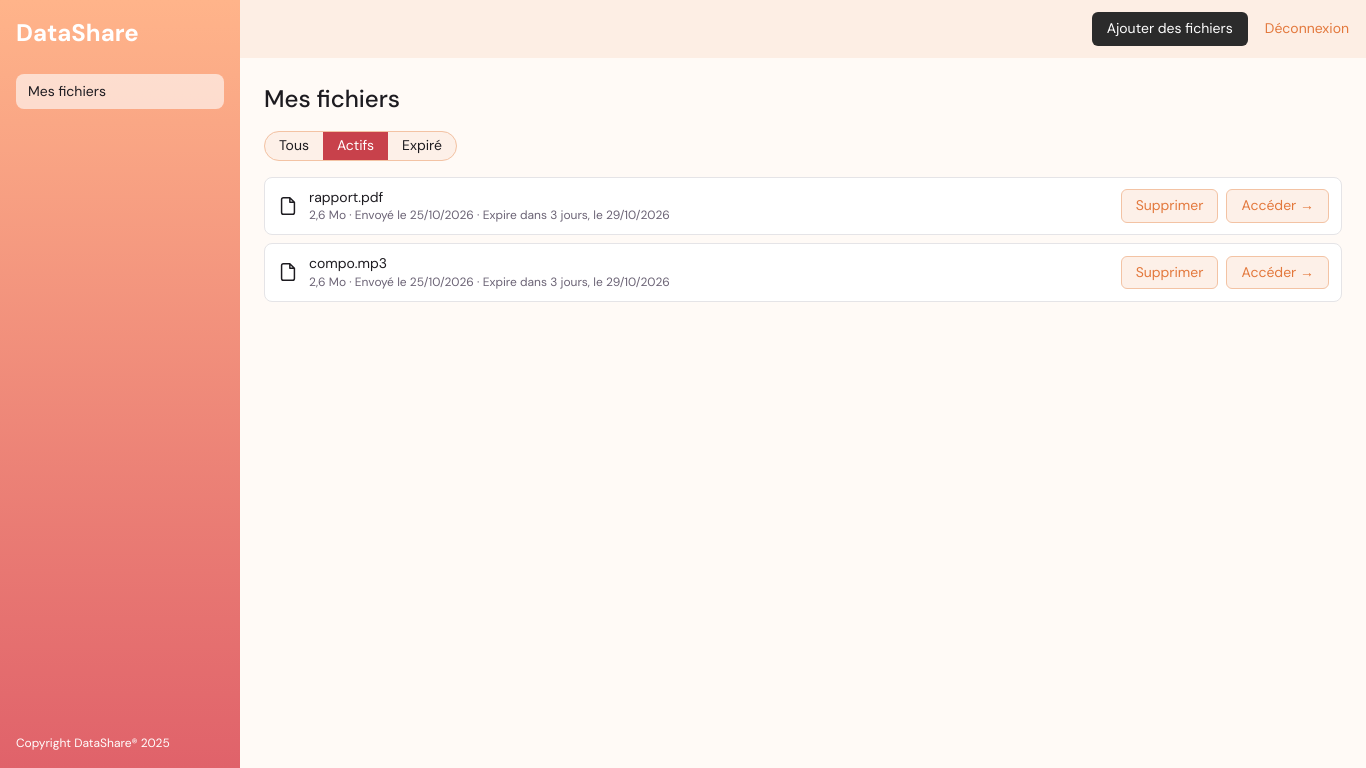
it: MyFilesPage — history (US05) and deletion (US06) › deletes a file only after confirmation, then removes it from the list
Click the button with aria-label "Supprimer rapport.pdf". click: coordinates (1170, 206)
box: [1121, 189, 1218, 223]
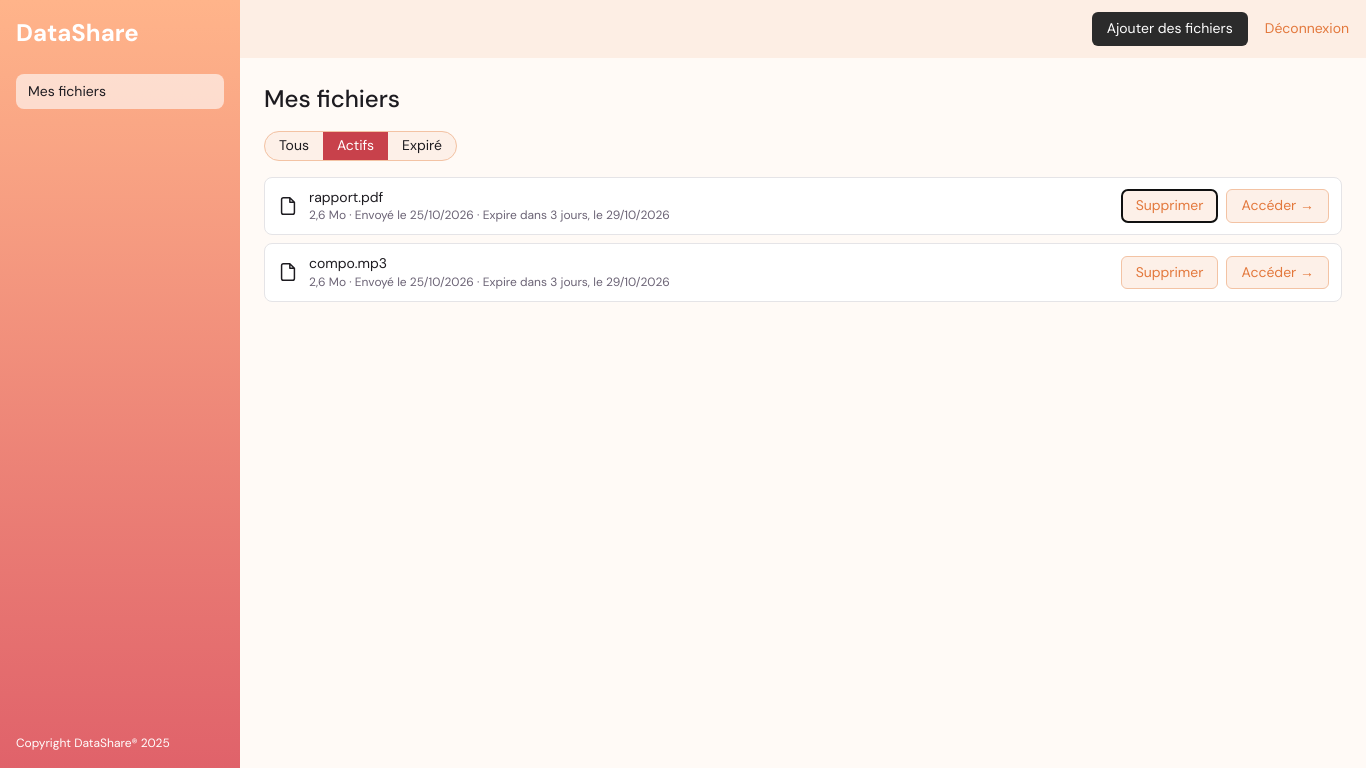
Click the button with aria-label "Supprimer rapport.pdf". click: coordinates (1170, 206)
box: [1121, 189, 1218, 223]
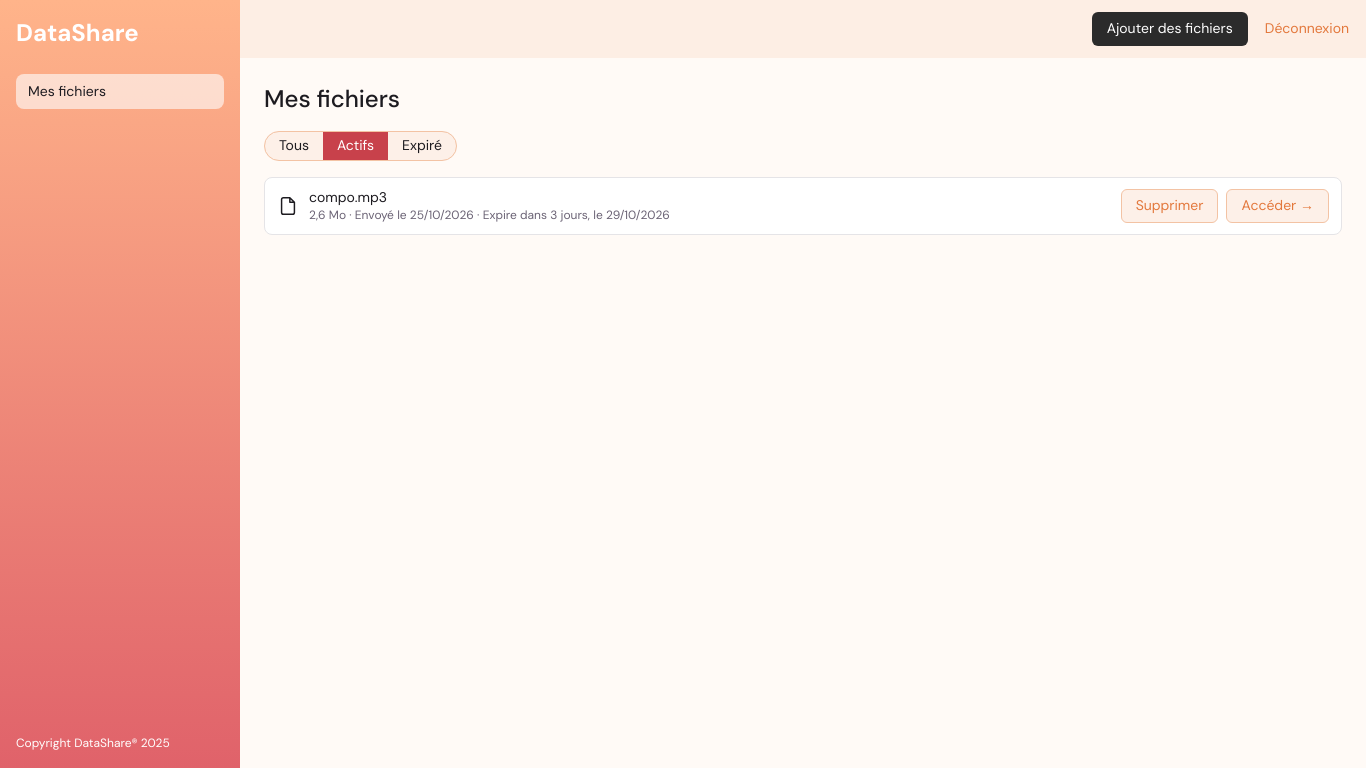
Expected: the text "compo.mp3" is shown, [309, 188, 387, 206]
Result: the text "rapport.pdf" is gone
